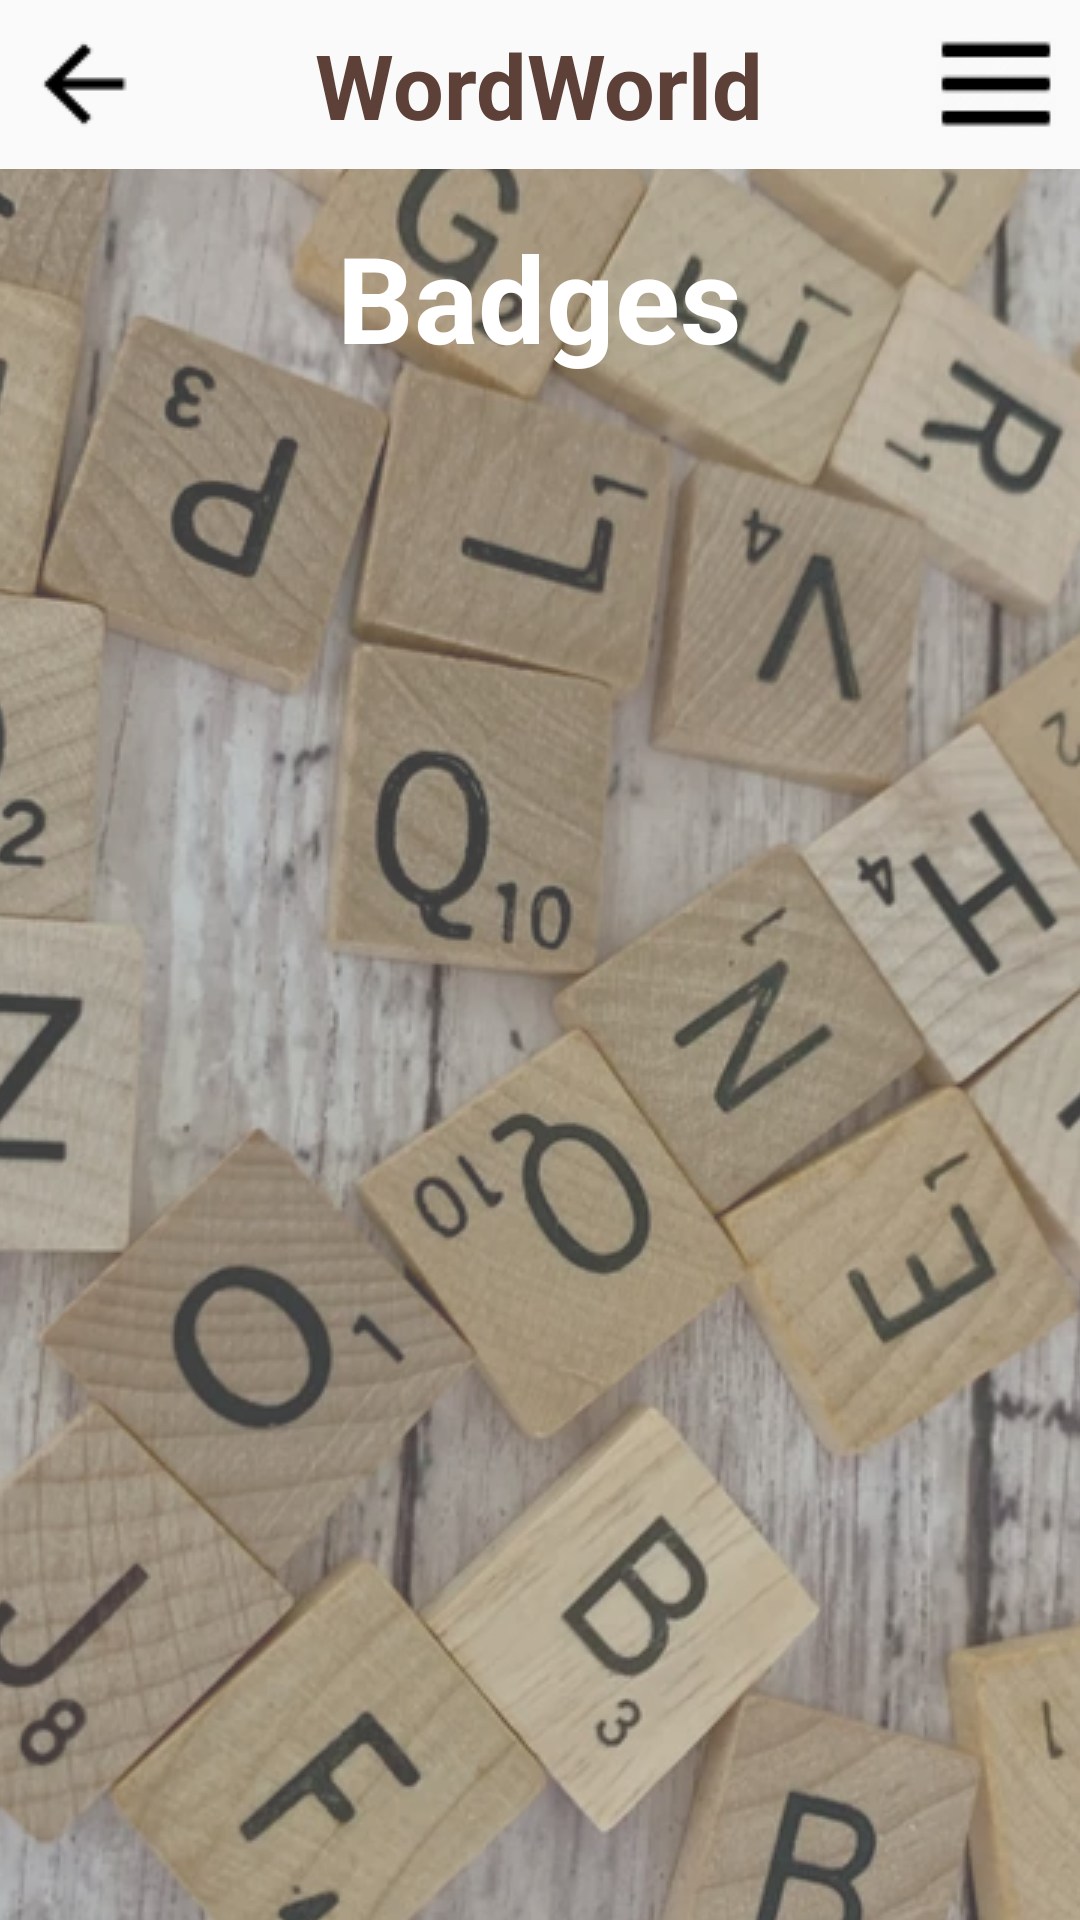

Screen size 1080 × 1920. Icon name, then its center in pixels as (x,y):
Back: (85,84)
Navigation: (996,84)
